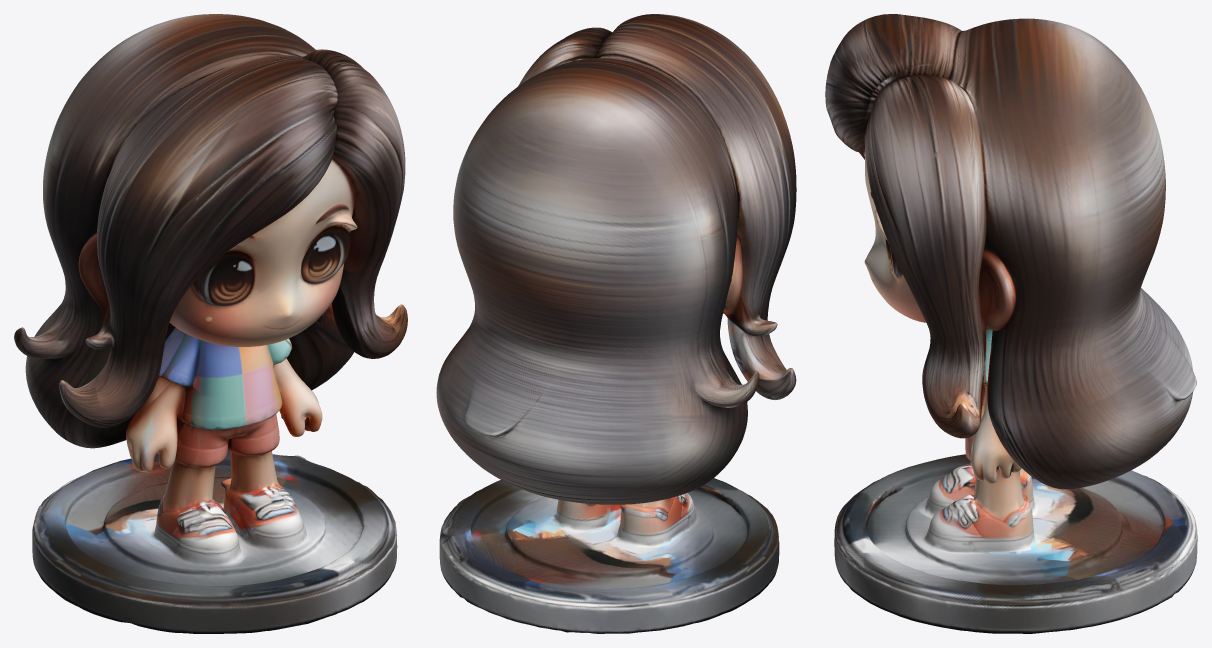
The model's file is girl.glb.
3 views of the same model, side by side, from view 1: azimuth 30°, elevation 25°; view 2: azimuth 150°, elevation 25°; view 3: azimuth 270°, elevation 25° (orthographic). The views are drawn at different scales.
Visible parts, largest first — view 1: geometry_0; view 2: geometry_0; view 3: geometry_0.
Part boxes in pixels (left/top/right/bottom): geometry_0: left=14, top=14, right=407, bottom=633; geometry_0: left=436, top=14, right=796, bottom=633; geometry_0: left=825, top=14, right=1197, bottom=633.
Bounding box in the file's own units: 1.29 × 1.91 × 1.21.
Materials: 1 (1 with a texture image).
